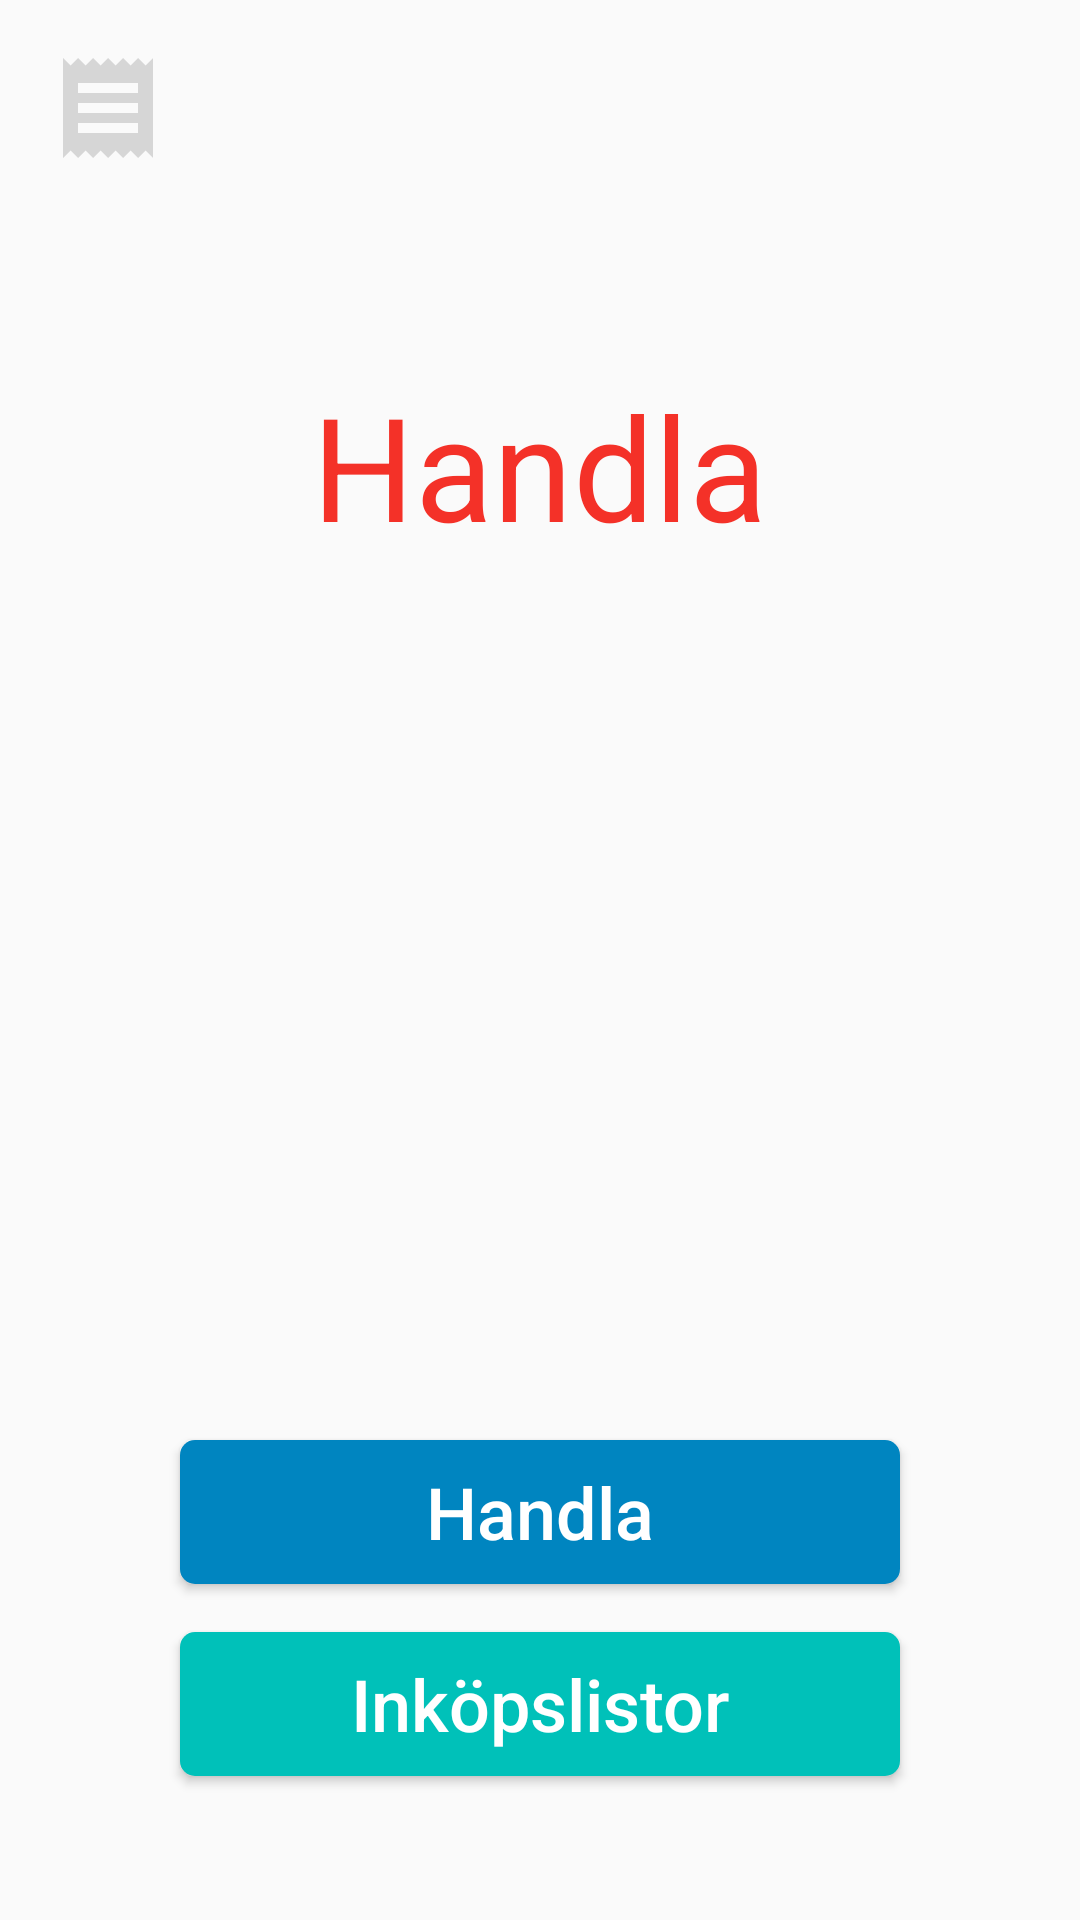

Screen size 1080 x 1920. Icon name, then its center in pixels as (x,y):
receipt: (108,108)
